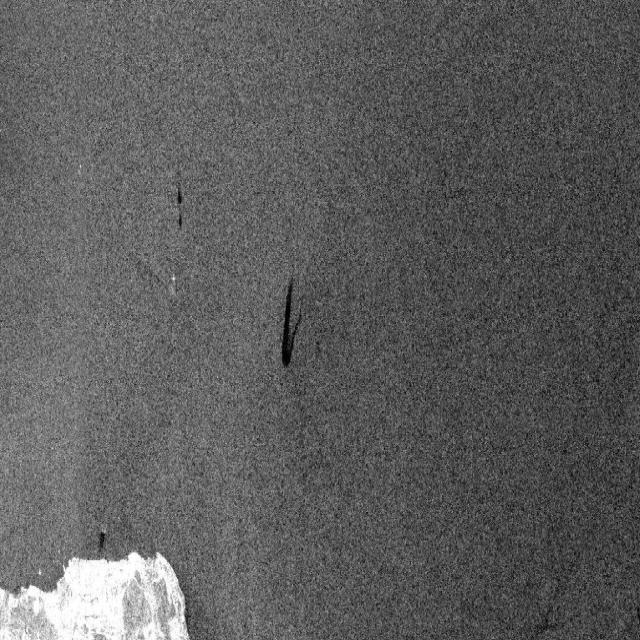look-alike: (271, 274, 307, 379)
